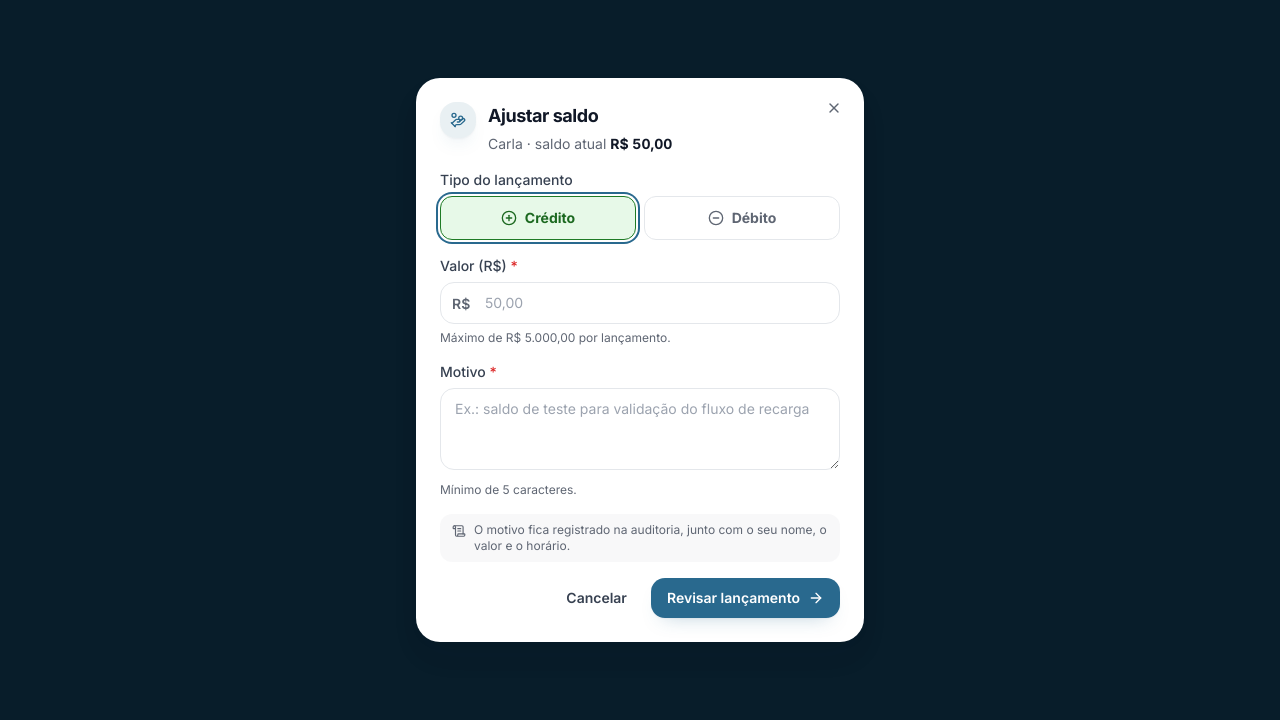
Test: AdjustBalanceDialog — dinheiro real: preencher, CONFIRMAR, só então enviar › motivo curto e valor inválido: erros na tela, NÃO avança nem envia
The width and height of the screenshot is (1280, 720).
Type "abc" into the field labelled "Valor (R$) *" at (640, 303), box [440,282,840,324]
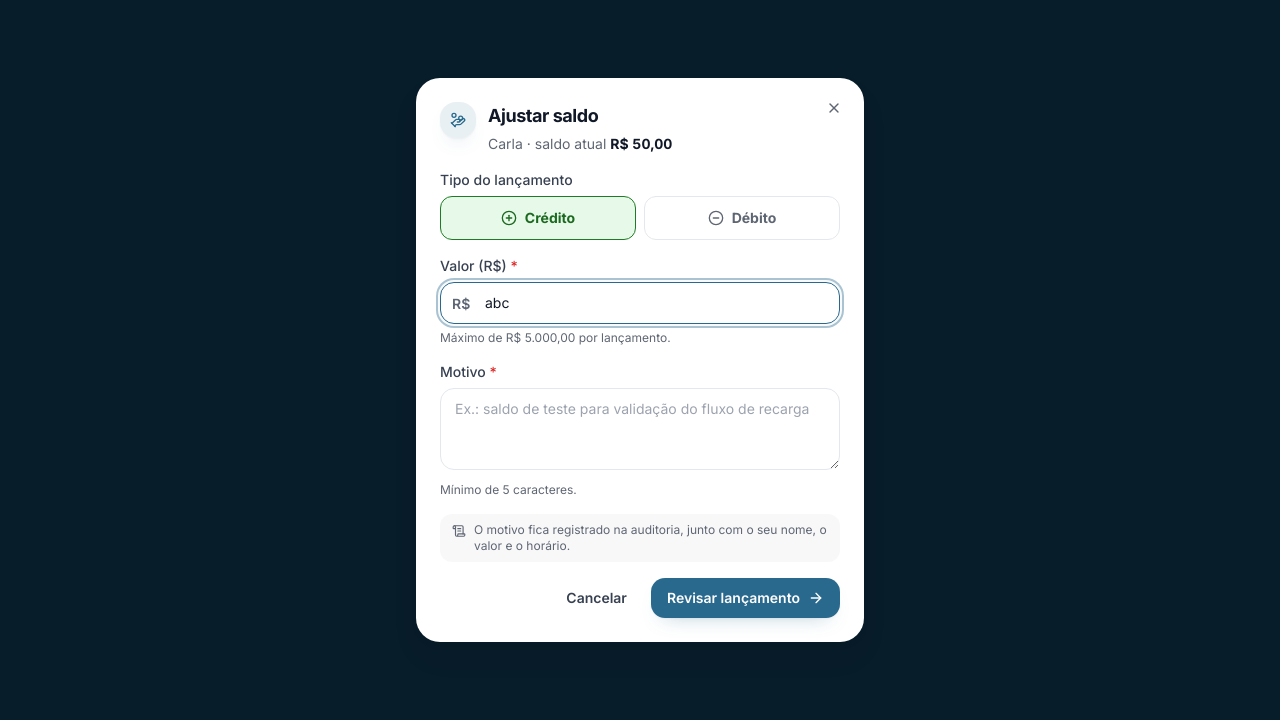
Type "oi" into the text box labelled "Motivo *" at (640, 429), box [440,388,840,470]
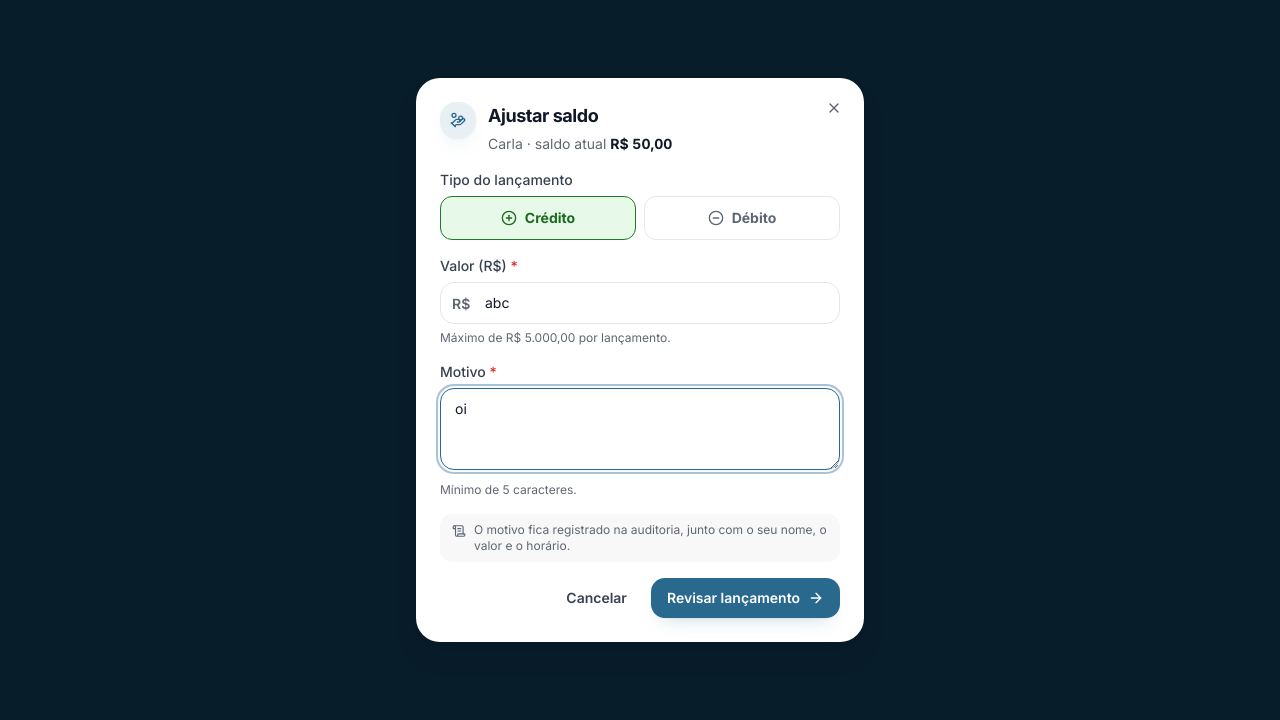
Click the button "Revisar lançamento" at (745, 598), box [651,578,840,618]
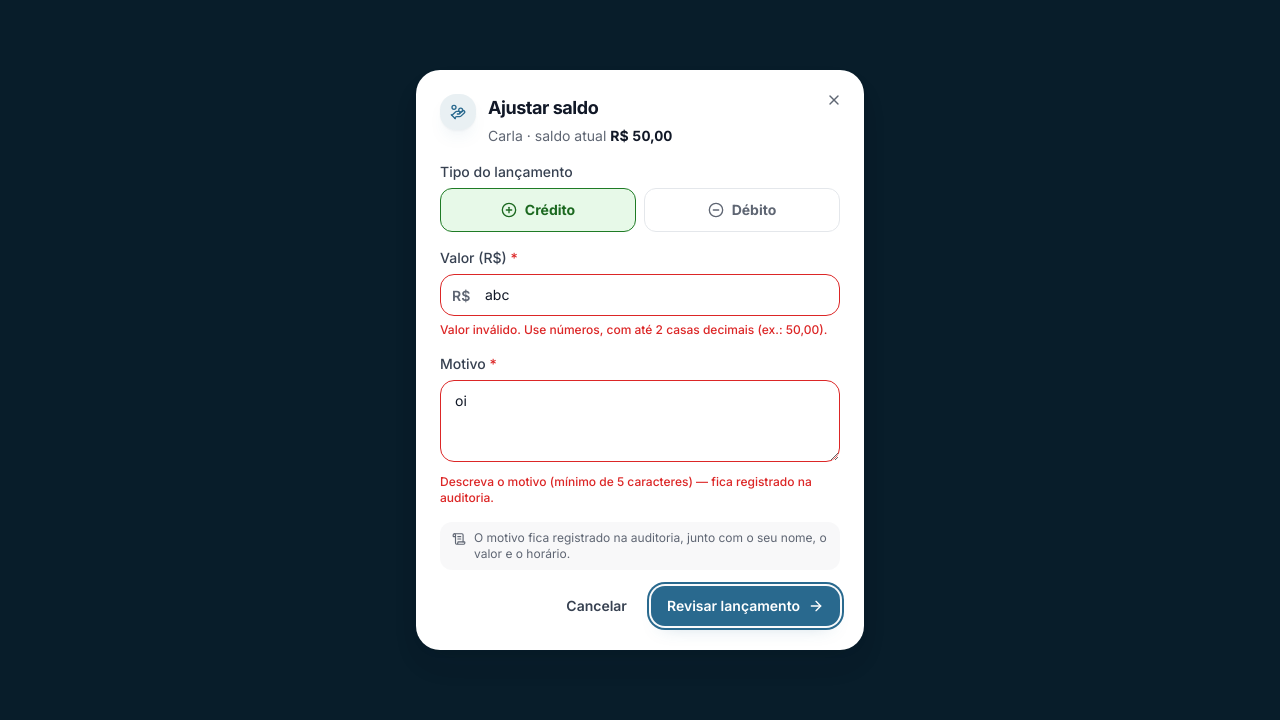
Now the text "Valor inválido. Use números, com até 2 casas decimais (ex.: 50,00)." is shown, box [440,322,840,338]
Now the text "Descreva o motivo (mínimo de 5 caracteres) — fica registrado na auditoria." is shown, box [440,474,840,506]
